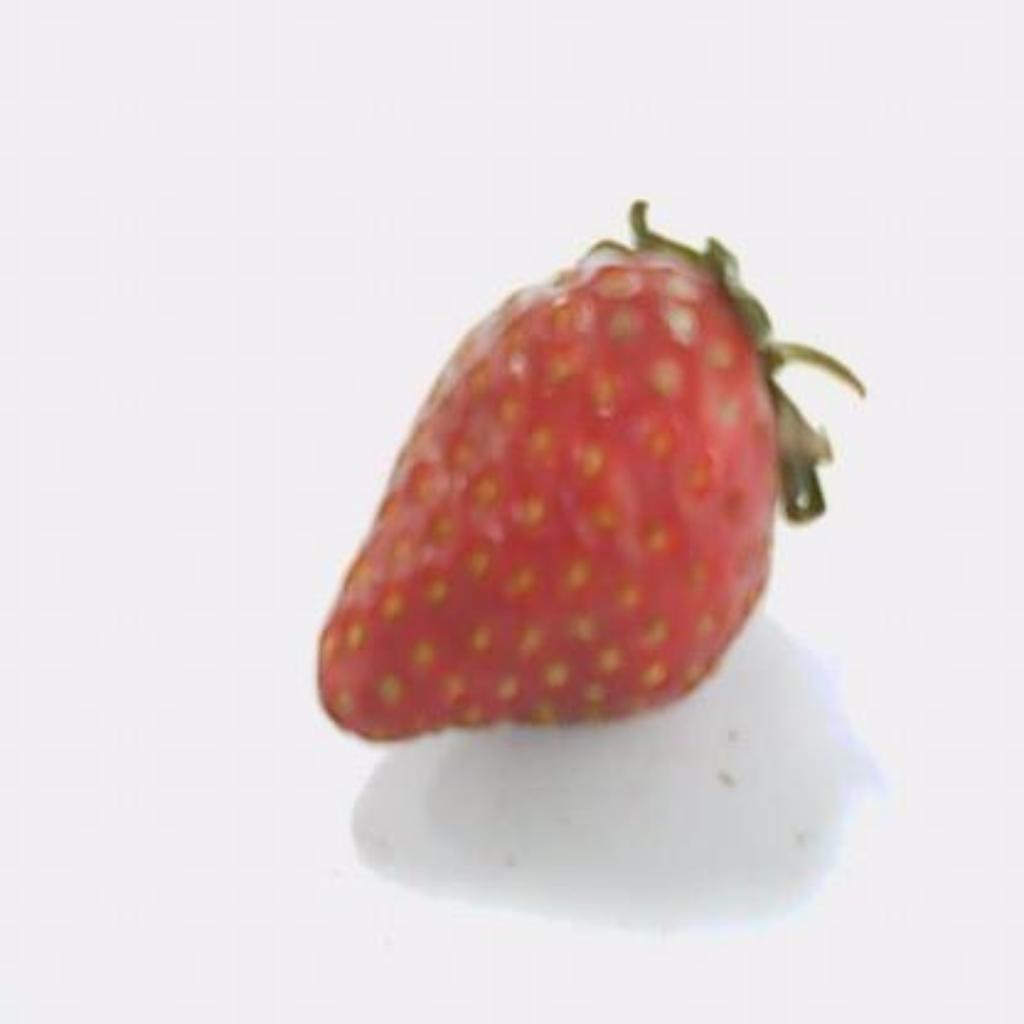strawberry: (318, 202, 864, 739)
